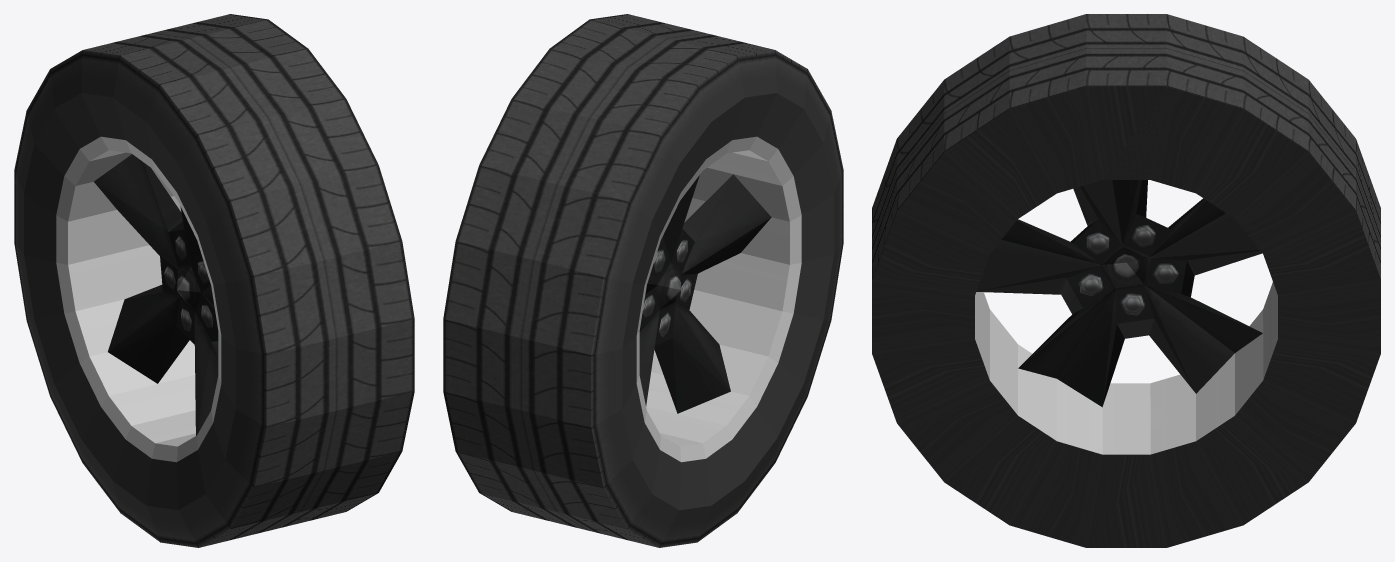
Rendered from GTO_Alloy04.fbx.
3 views of the same model, side by side, from view 1: azimuth 30°, elevation 25°; view 2: azimuth 150°, elevation 25°; view 3: azimuth 270°, elevation 25° (orthographic).
Visible parts, largest first — view 1: Empty_Mesh; view 2: Empty_Mesh; view 3: Empty_Mesh.
Part boxes in pixels (left/top/right/bottom): Empty_Mesh: left=14, top=14, right=414, bottom=547; Empty_Mesh: left=443, top=14, right=843, bottom=547; Empty_Mesh: left=872, top=14, right=1380, bottom=547.
Bounding box in the file's own units: 24.66 × 68 × 68.
